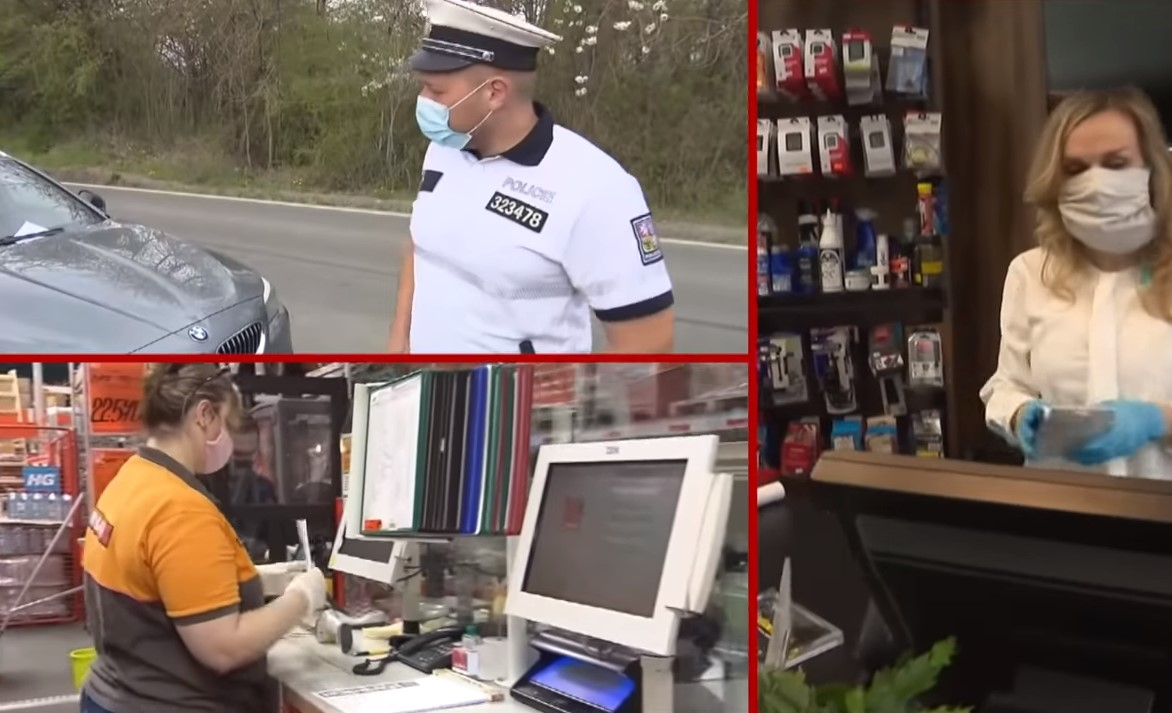face_with_mask: (414, 4, 564, 148), (1050, 101, 1168, 260), (148, 363, 244, 477)
